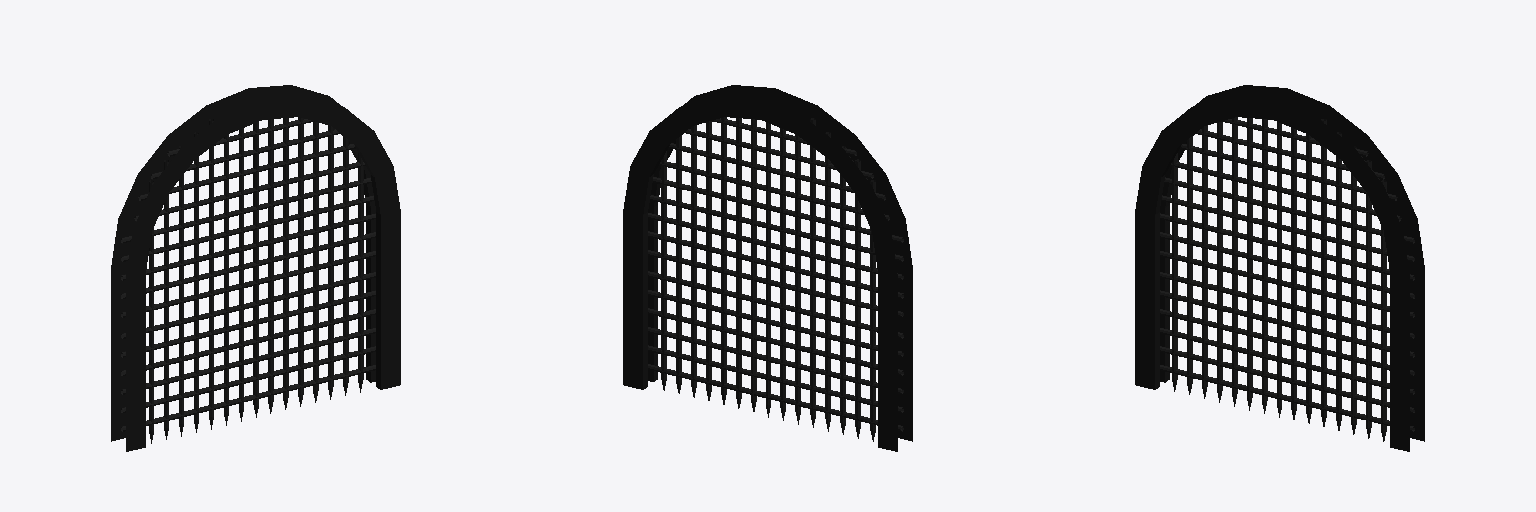
The model's file is GateClosed.obj.
The picture shows the model from 3 angles: view 1: azimuth 30°, elevation 25°; view 2: azimuth 150°, elevation 25°; view 3: azimuth 330°, elevation 25°; orthographic projection.
Visible parts, largest first — view 1: group223_polySurface2_Untitled; view 2: group223_polySurface2_Untitled; view 3: group223_polySurface2_Untitled.
Part boxes in pixels (x1,y1,x2,y2): group223_polySurface2_Untitled: (111, 85, 400, 451); group223_polySurface2_Untitled: (623, 85, 912, 451); group223_polySurface2_Untitled: (1135, 85, 1424, 451).
Bounding box in the file's own units: 9.25 × 10.47 × 0.8589.